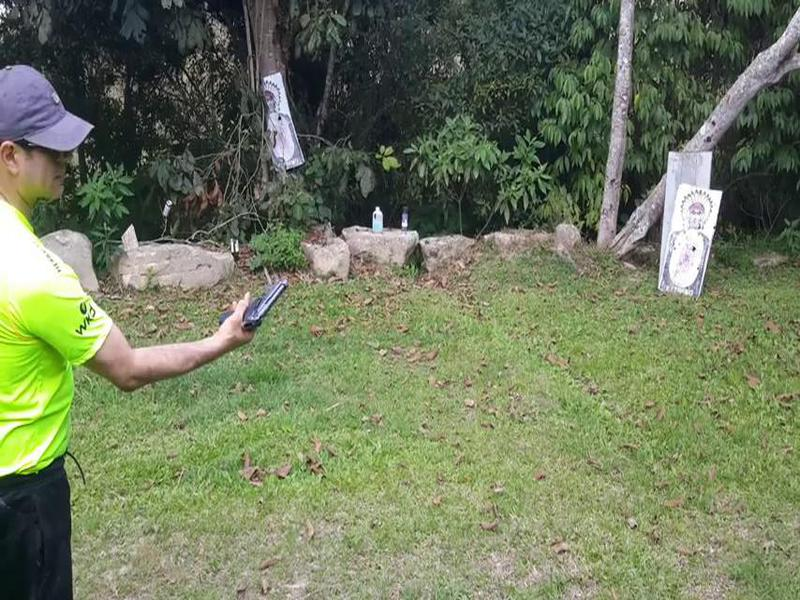Pistola: (226, 272, 296, 339)
